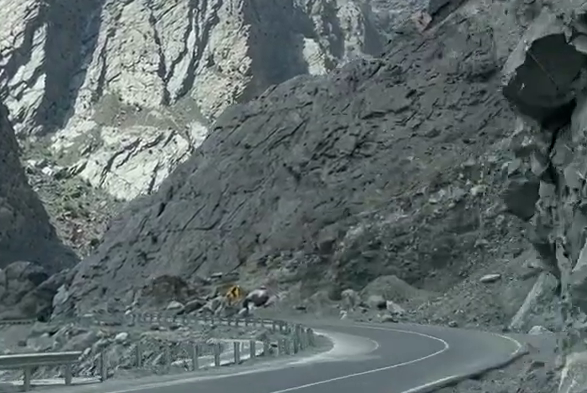right: (278, 292, 523, 380)
